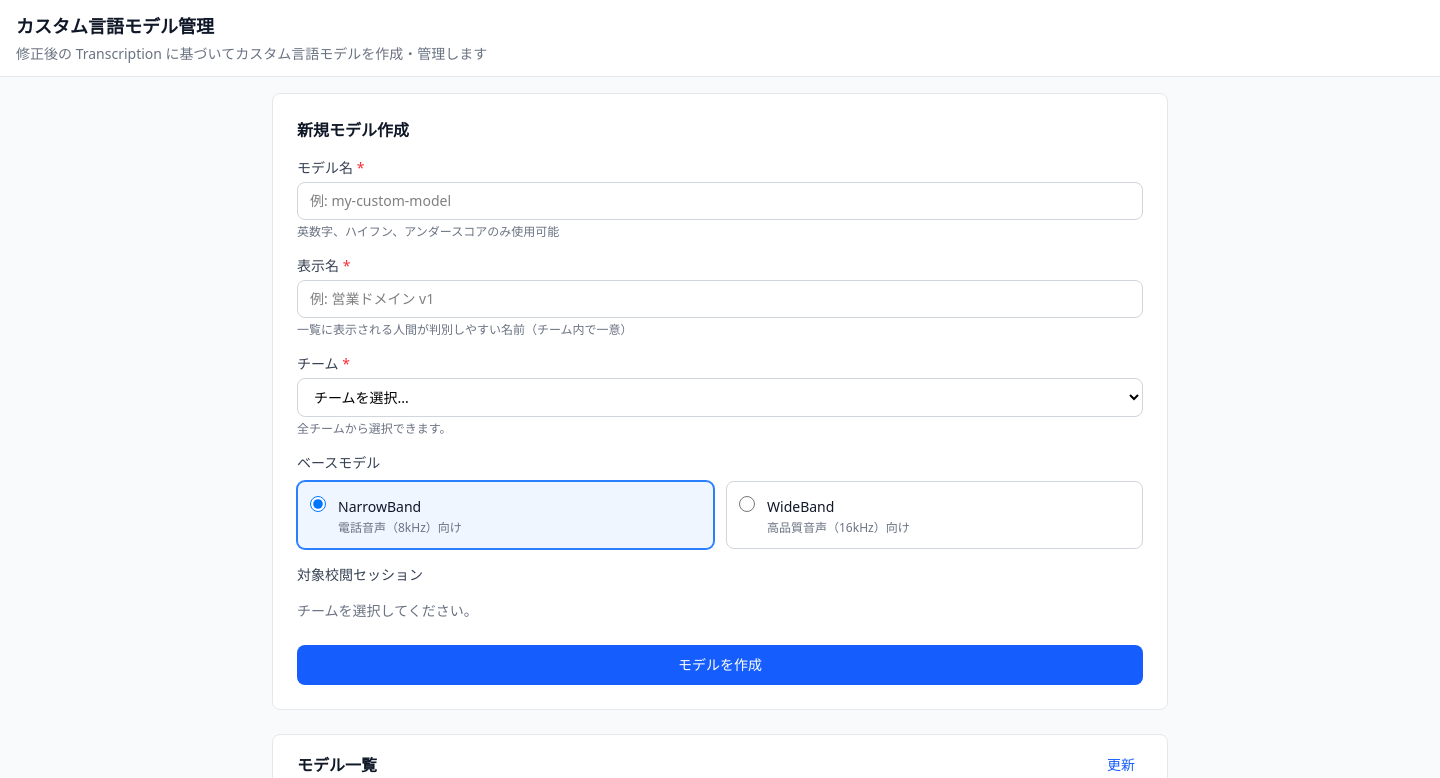
LanguageModelPage › model creation form › shows success message after model creation
Expected: the dropdown labelled "チーム *" is shown, [297, 378, 1143, 417]
Type "new-model" into the field labelled "モデル名 *" at (720, 201), box [297, 182, 1143, 220]
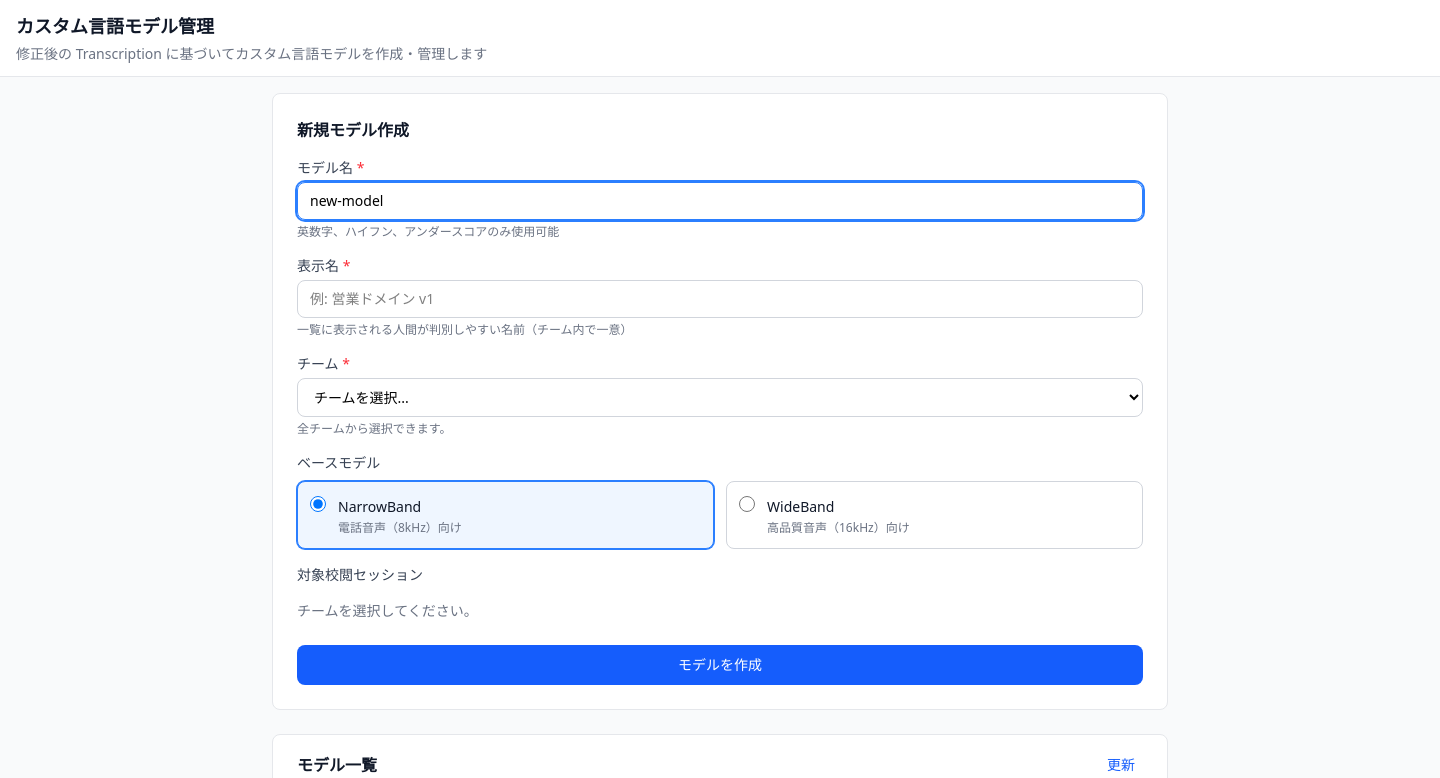
Type "営業ドメイン" into the field labelled "表示名 *" at (720, 299), box [297, 280, 1143, 318]
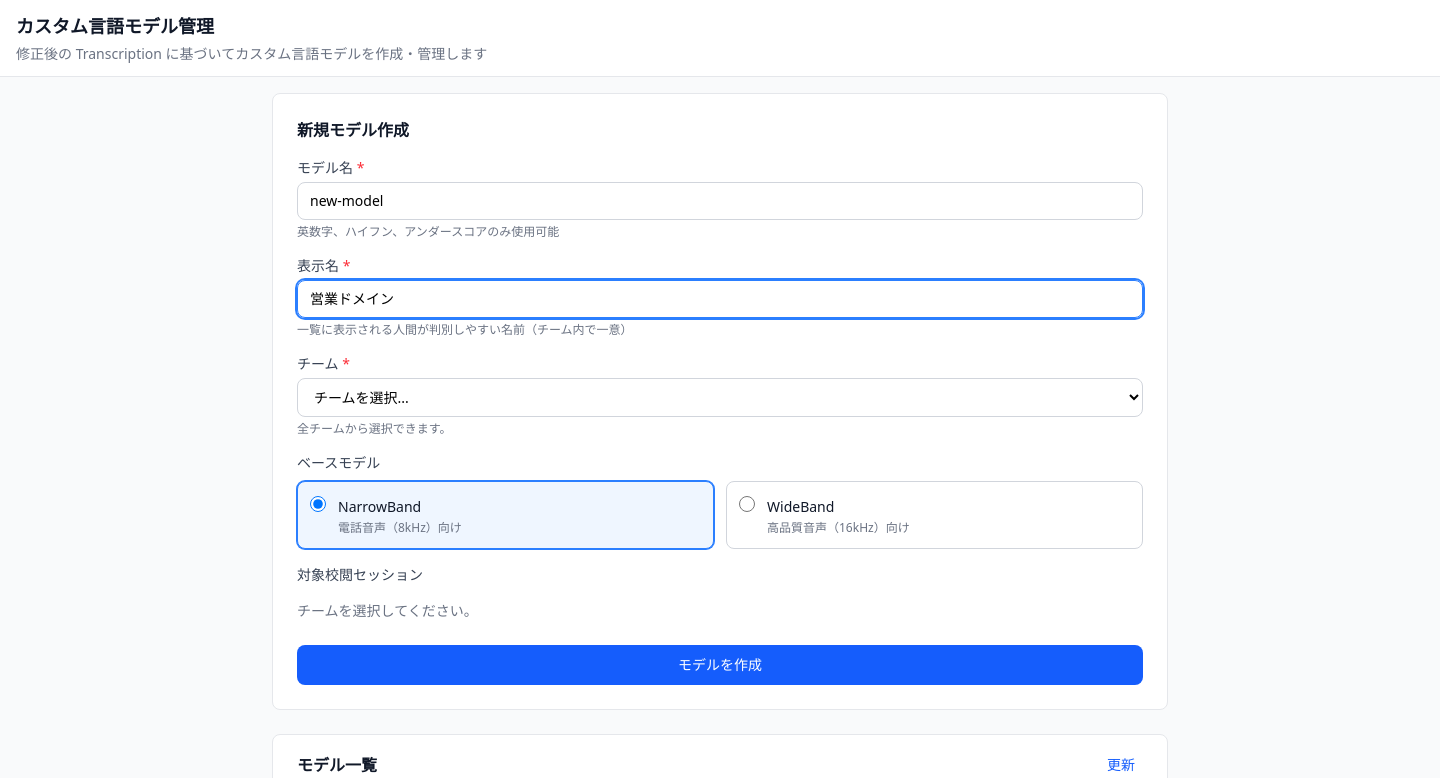
Select "チームA" in the dropdown labelled "チーム *" at (720, 398), box [297, 378, 1143, 417]
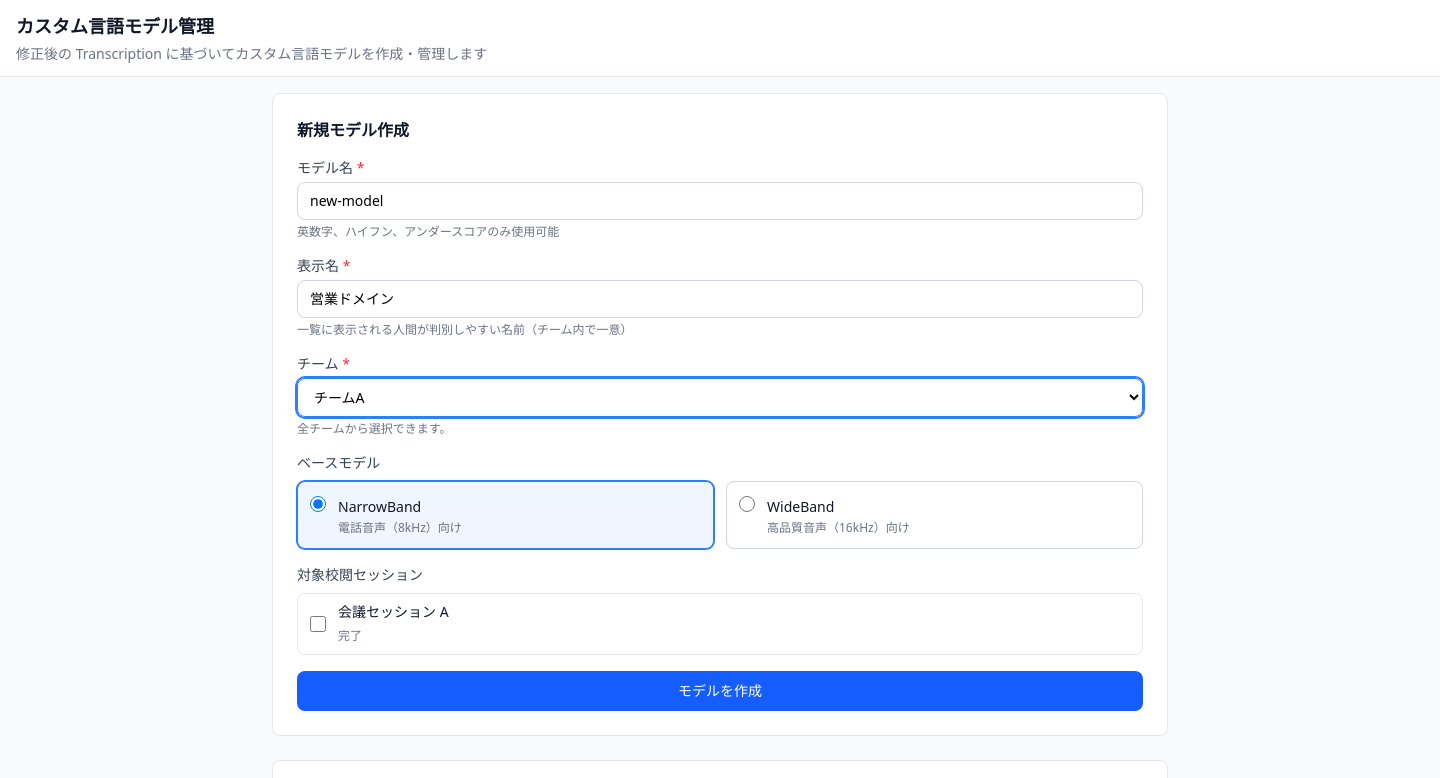
Click the checkbox labelled "会議セッション A 完了" at (318, 624), box [310, 616, 326, 632]
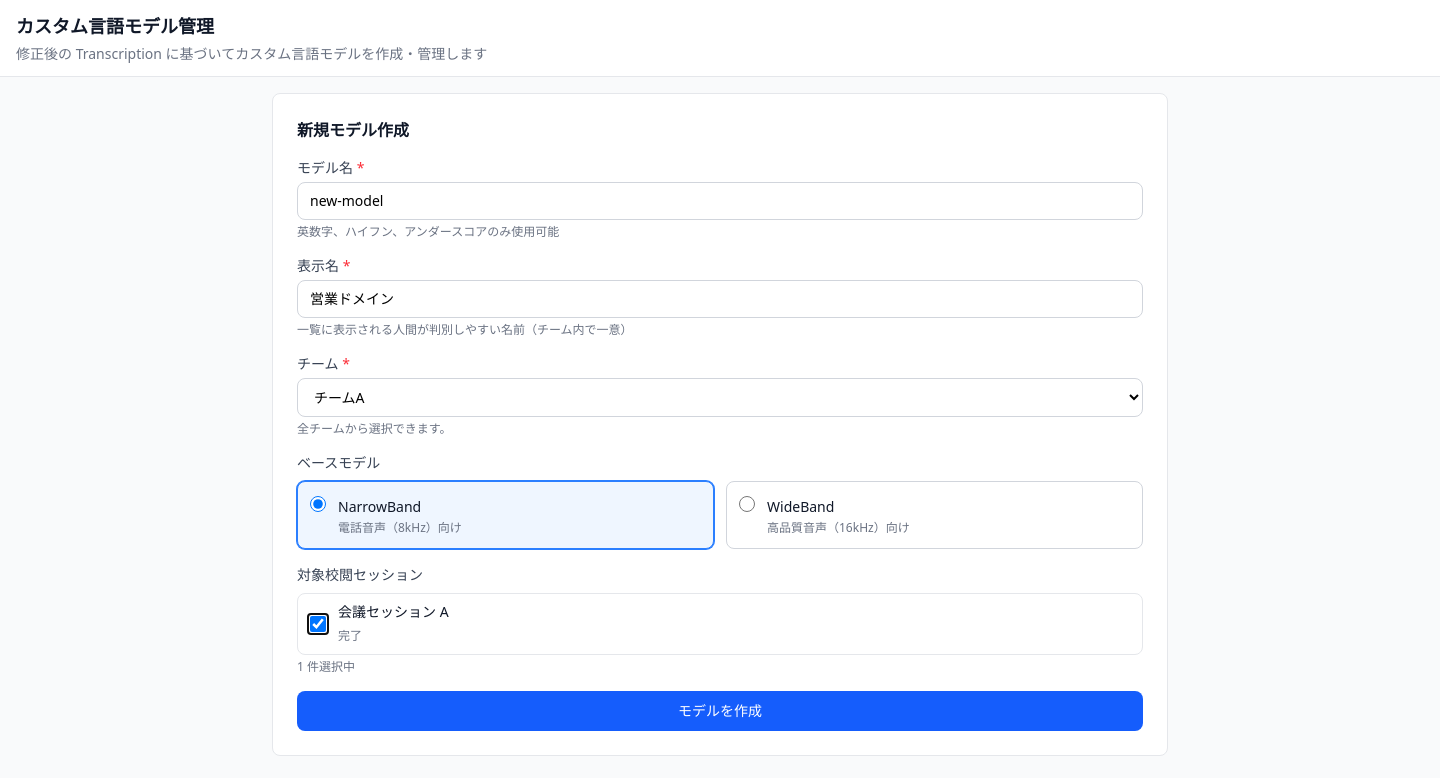
Click the button "モデルを作成" at (720, 711), box [297, 691, 1143, 731]
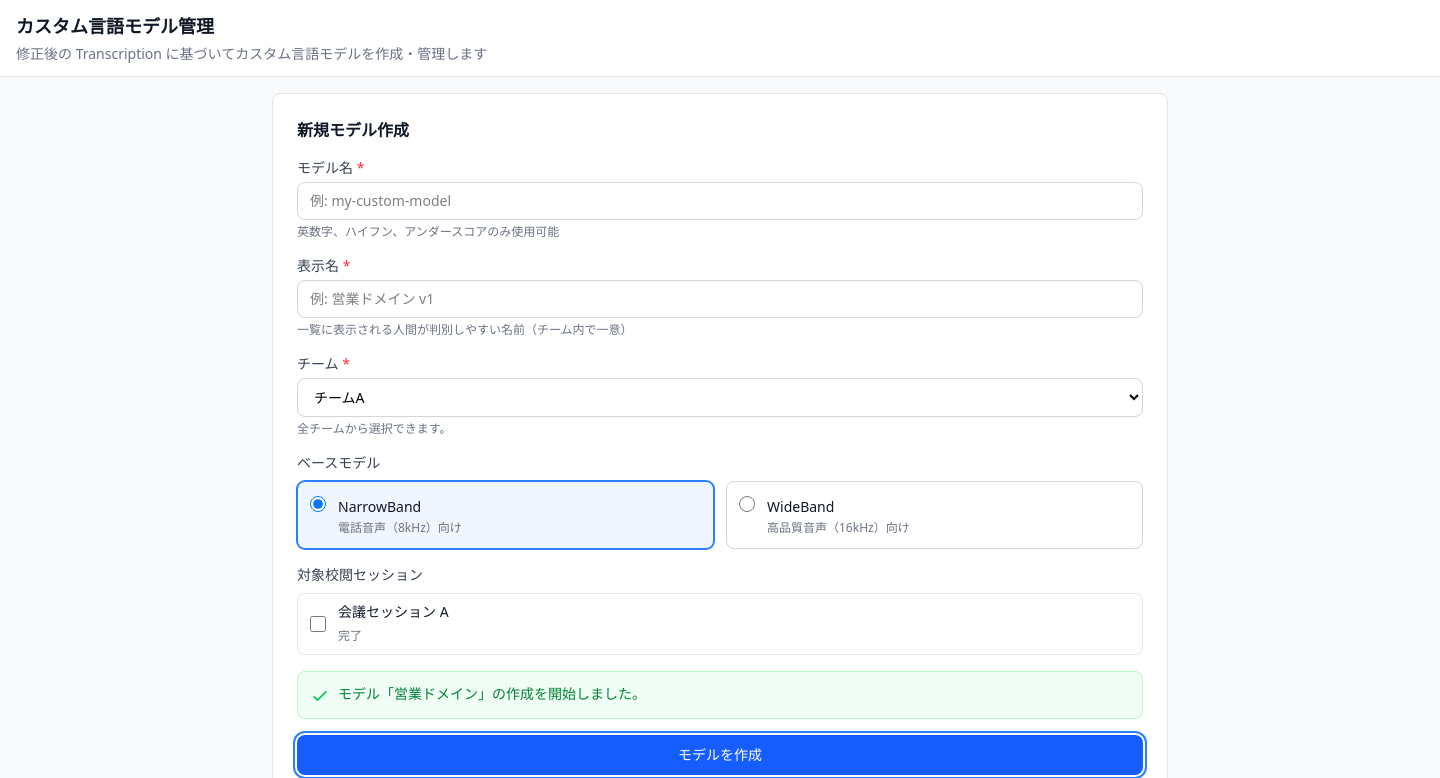
Now the text "モデル「営業ドメイン」の作成を開始しました。" is shown, box [338, 684, 646, 704]
